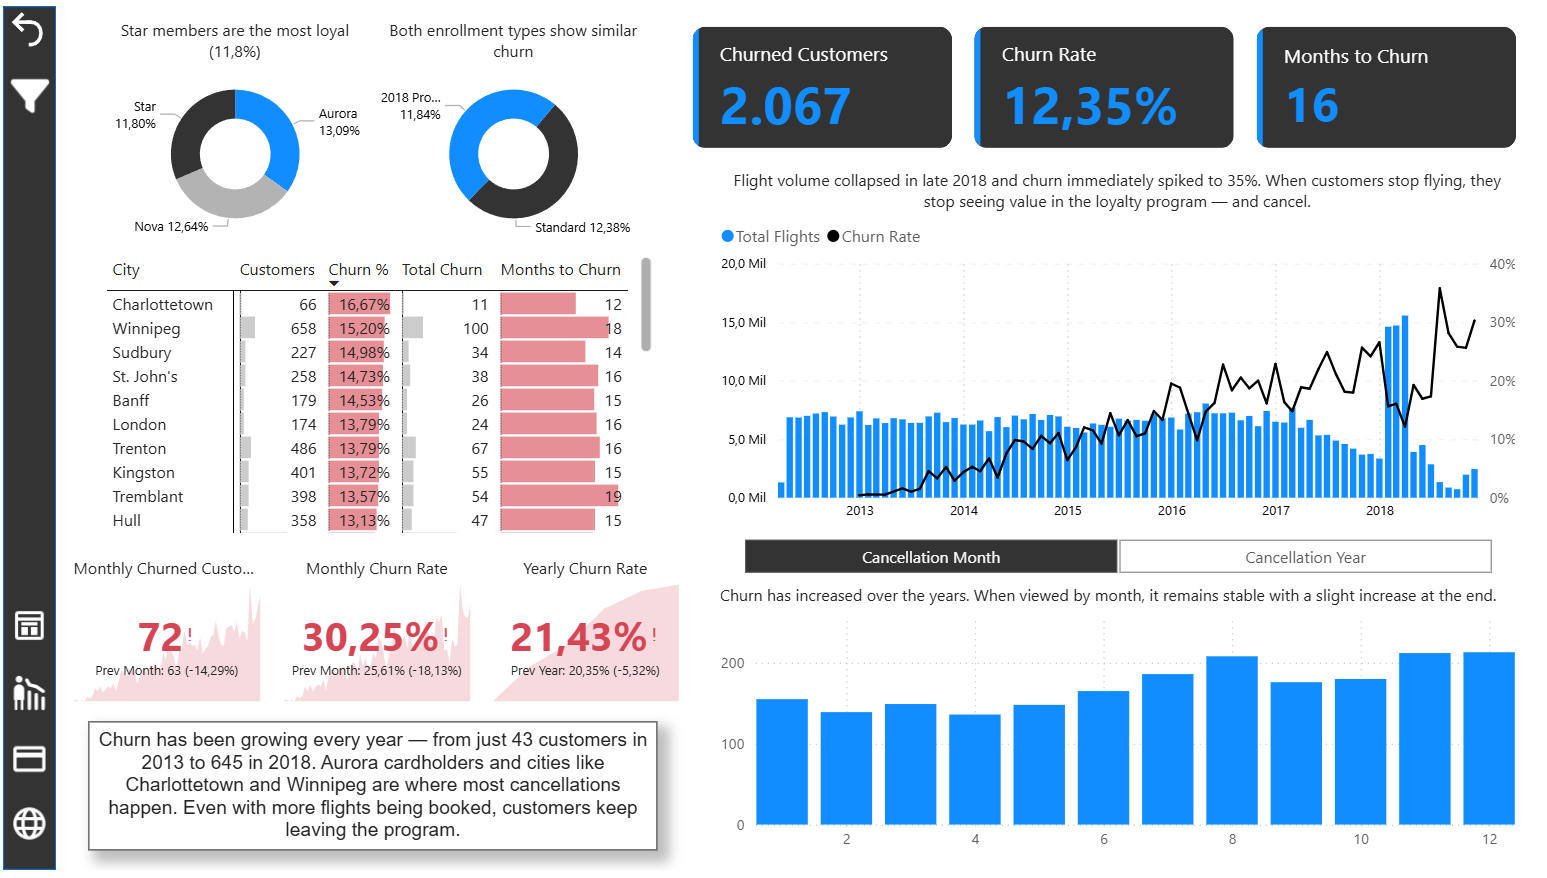

Layout of this report page (visuals, bound fields, positions):
{"tool":"powerbi","page":{"name":"Churn Analysis","canvas":[1280,720],"ordinal":1},"visuals":[{"type":"kpi","title":"Monthly Churn Rate","fields":{"TrendLine":["Calendar.StartOfMonth"],"Indicator":["Measures DAX.Churn Rate (Time)"],"Goal":["Measures DAX.Previous Month Churn Rate"]},"box":[228.6,458.1,165.6,125.6],"z":1000},{"type":"pivotTable","fields":{"Rows":["Customer_Loyalty_History.Province","Customer_Loyalty_History.City"],"Values":["Measures DAX.Total Customers (Time)","Measures DAX.Churn Rate (Time)","Measures DAX.Churned Customers (Time)","Measures DAX.Avg Tenure Before Churn"]},"box":[53.8,200,508.8,237.5],"z":2000},{"type":"shape","box":[0,0,44.3,720],"z":3000},{"type":"cardVisual","fields":{"Data":["Measures DAX.Churned Customers (Time)","Measures DAX.Churn Rate (Time)","Measures DAX.Avg Tenure Before Churn"]},"box":[557.8,0,722.2,135],"z":4000},{"type":"actionButton","box":[1.4,0,44.3,38.6],"z":5000},{"type":"actionButton","box":[2,55,44.3,40],"z":6000},{"type":"donutChart","title":"Star members are the most loyal (11,8%)","fields":{"Category":["Customer_Loyalty_History.LoyaltyCard"],"Y":["Measures DAX.Churn Rate (Time)"]},"box":[77.1,10,231.4,190],"z":7000},{"type":"lineStackedColumnComboChart","title":"Flight volume collapsed in late 2018 and churn immediately spiked to 35%. When customers stop flying, they stop seeing value in the loyalty program — and cancel.","fields":{"Category":["Calendar.StartOfMonth"],"Y2":["Measures DAX.Churn Rate (Time)"],"Y":["Measures DAX.Total Flights (Time)"]},"box":[592.1,135.6,672.1,302.4],"z":8000},{"type":"clusteredColumnChart","title":"Churn has increased over the years. When viewed by month, it remains stable with a slight increase at the end.","fields":{"Category":["Customer_Loyalty_History.CancellationMonth"],"Y":["Measures DAX.Churned Customers (Time)"]},"box":[592.1,480.9,672.1,230.6],"z":9000},{"type":"kpi","title":"\tMonthly Churned Customers","fields":{"TrendLine":["Calendar.StartOfMonth"],"Indicator":["Measures DAX.Churned Customers (Time)"],"Goal":["Measures DAX.Previous Month Churned Customers"]},"box":[54.1,458.1,165.6,125.6],"z":10000},{"type":"slicer","fields":{"Values":["Parameter 2.Parameter"]},"box":[592.1,438,672.1,41.7],"z":11000},{"type":"donutChart","title":"Both enrollment types show similar churn","fields":{"Y":["Measures DAX.Churn Rate (Time)"],"Category":["Customer_Loyalty_History.EnrollmentType"]},"box":[308.6,10,232.9,190],"z":12000},{"type":"kpi","title":"Yearly Churn Rate","fields":{"Indicator":["Measures DAX.Churn Rate (Time)"],"Goal":["Measures DAX.Previous Year Churn Rate"],"TrendLine":["Calendar.StartOfYear"]},"box":[403,458.1,165.6,125.6],"z":13000},{"type":"textbox","box":[71.4,595.7,474.3,107.1],"z":14000},{"type":"actionButton","box":[0,496.7,44.2,40],"z":15000},{"type":"actionButton","box":[0,551.9,44.4,40],"z":16000},{"type":"actionButton","box":[0,607.3,44.4,40],"z":17000},{"type":"actionButton","box":[0,661.4,44.3,40],"z":18000}]}

Visuals, with their boxes on the page's 1280x720 design canvas (x1, y1, x2, y2). These are canvas units, not pixel positions in the 1547x878 screenshot, which may show the page scaled, cropped or inside an application window:
"Monthly Churn Rate" kpi: BBox(229, 458, 394, 584)
pivotTable - Customer_Loyalty_History.Province x Customer_Loyalty_History.City: BBox(54, 200, 563, 438)
shape: BBox(0, 0, 44, 720)
cardVisual - Measures DAX.Churned Customers (Time) x Measures DAX.Churn Rate (Time): BBox(558, 0, 1280, 135)
actionButton: BBox(1, 0, 46, 39)
actionButton: BBox(2, 55, 46, 95)
"Star members are the most loyal (11,8%)" donutChart: BBox(77, 10, 308, 200)
"Flight volume collapsed in late 2018 and churn immediately spiked to 35%. When customers stop flying, they stop seeing value in the loyalty program — and cancel." lineStackedColumnComboChart: BBox(592, 136, 1264, 438)
"Churn has increased over the years. When viewed by month, it remains stable with a slight increase at the end." clusteredColumnChart: BBox(592, 481, 1264, 712)
"	Monthly Churned Customers" kpi: BBox(54, 458, 220, 584)
slicer - Parameter 2.Parameter: BBox(592, 438, 1264, 480)
"Both enrollment types show similar churn" donutChart: BBox(309, 10, 542, 200)
"Yearly Churn Rate" kpi: BBox(403, 458, 569, 584)
textbox: BBox(71, 596, 546, 703)
actionButton: BBox(0, 497, 44, 537)
actionButton: BBox(0, 552, 44, 592)
actionButton: BBox(0, 607, 44, 647)
actionButton: BBox(0, 661, 44, 701)
